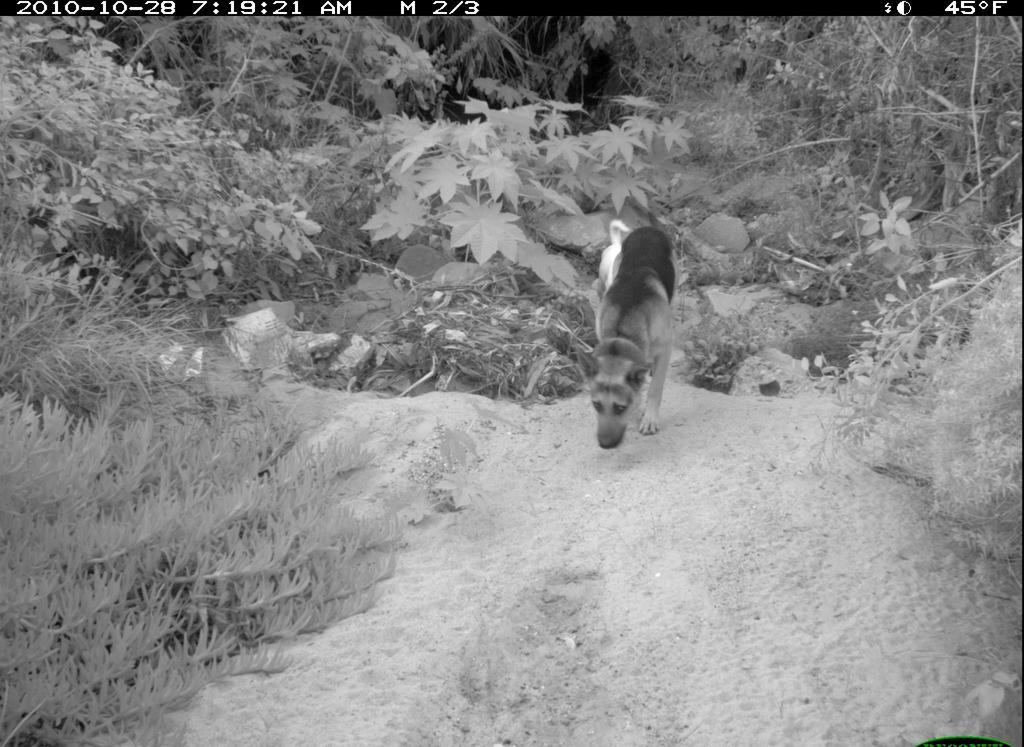dog: (578, 218, 694, 454)
